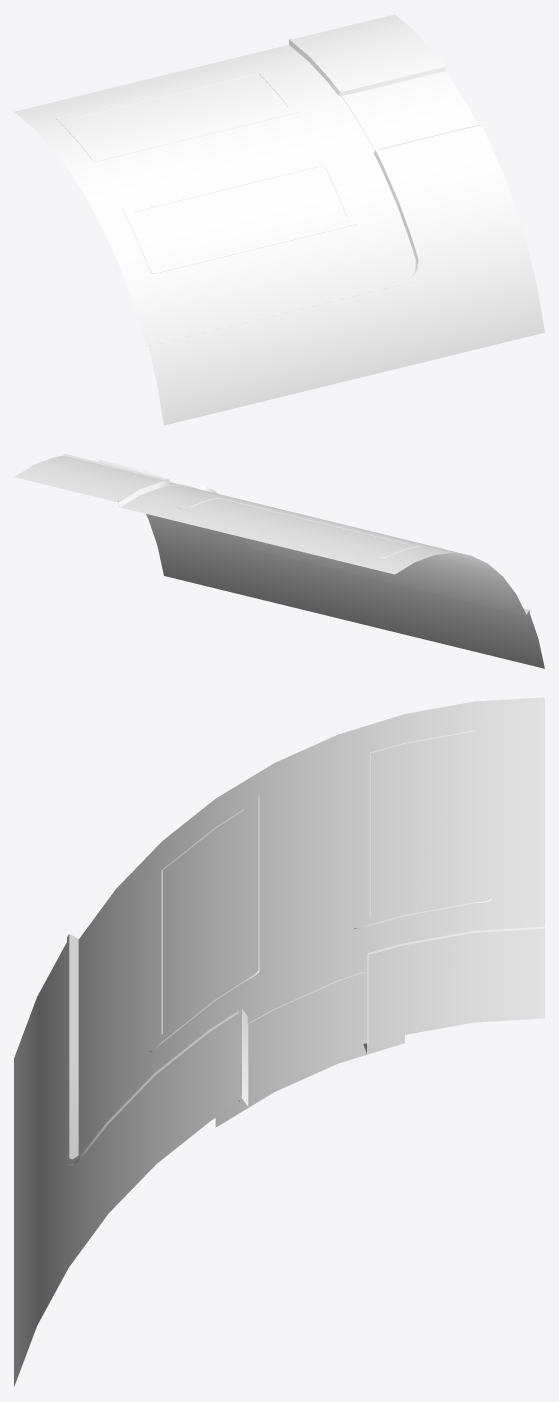
Rendered from grd_Ex_w_se_0.dae.
3 renders of one model, top to bottom at view 1: azimuth 30°, elevation 25°; view 2: azimuth 150°, elevation 25°; view 3: azimuth 270°, elevation 25°, orthographic. The views are drawn at different scales.
Parts seen in each view (by area): view 1: grass_0_0, road2_2_0, renga2_1_0, road2_3_0; view 2: grass_0_0, road2_2_0, renga2_1_0; view 3: grass_0_0, road2_2_0, renga2_1_0, road2_3_0.
Part boxes in pixels (left/top/right/bottom): grass_0_0: left=69, top=14, right=544, bottom=425; road2_2_0: left=14, top=45, right=415, bottom=346; renga2_1_0: left=56, top=38, right=481, bottom=346; road2_3_0: left=341, top=71, right=476, bottom=150; grass_0_0: left=14, top=455, right=544, bottom=668; road2_2_0: left=118, top=485, right=526, bottom=615; renga2_1_0: left=64, top=454, right=529, bottom=614; grass_0_0: left=14, top=731, right=544, bottom=1386; road2_2_0: left=78, top=697, right=544, bottom=1154; renga2_1_0: left=67, top=721, right=544, bottom=1165; road2_3_0: left=215, top=973, right=404, bottom=1127.
Bounding box in the file's own units: 704 × 370 × 480.
4 materials, 1 textured.
